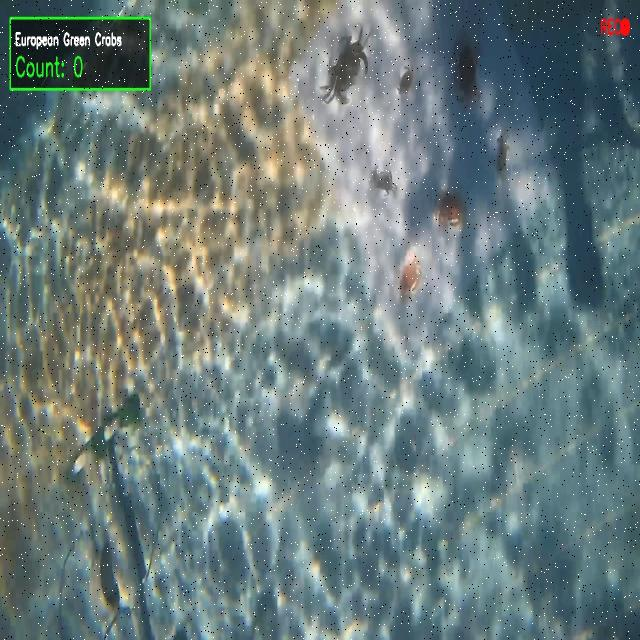European_Green_Crab: (311, 8, 375, 127), (368, 159, 398, 207), (493, 130, 511, 182)
